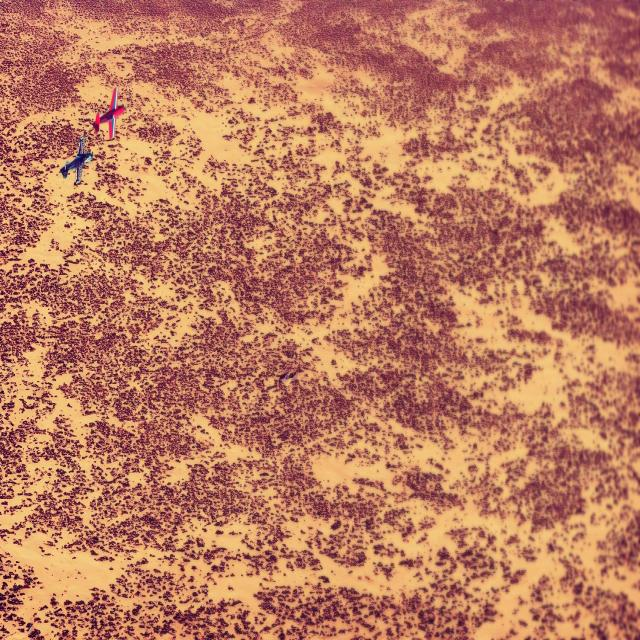airplane: (92, 86, 126, 140), (60, 136, 93, 186)
